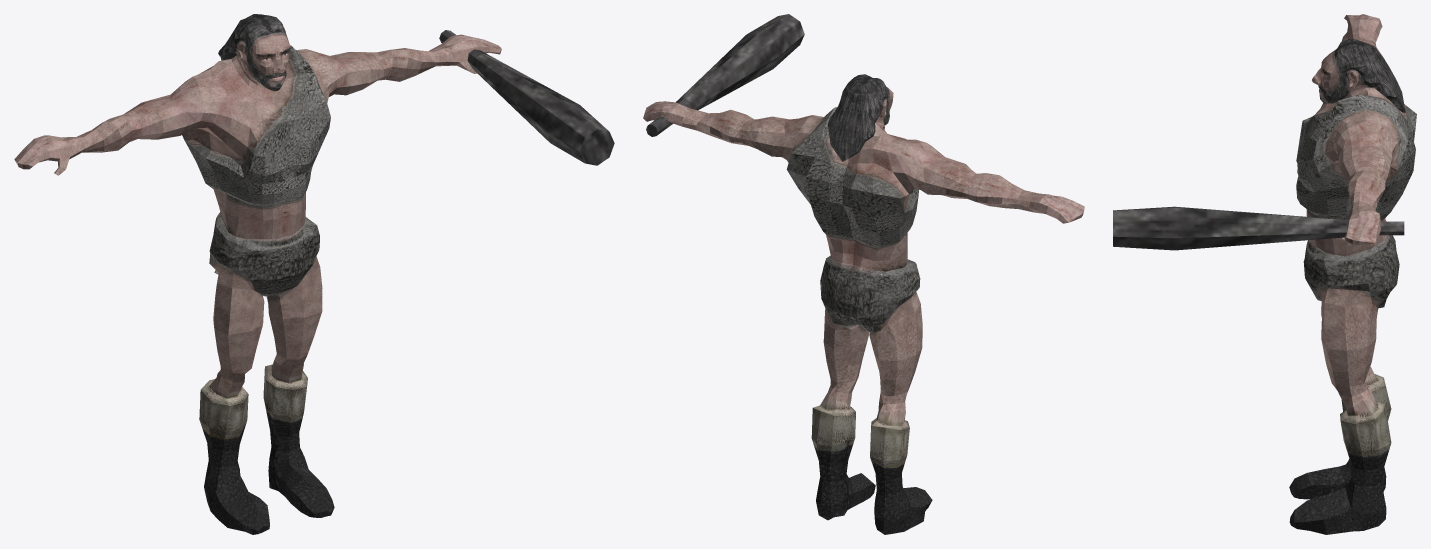
Rendered from Nean.obj.
3 views of the same model, side by side, from view 1: azimuth 30°, elevation 25°; view 2: azimuth 150°, elevation 25°; view 3: azimuth 270°, elevation 25° (orthographic). The views are drawn at different scales.
Parts seen in each view (by area): view 1: Neanderthal, Cylinder; view 2: Neanderthal, Cylinder; view 3: Neanderthal, Cylinder.
Boxes of the visible parts, <box> form: Neanderthal: <box>14,14,501,534</box>; Cylinder: <box>439,30,614,165</box>; Neanderthal: <box>643,74,1084,534</box>; Cylinder: <box>646,14,804,136</box>; Neanderthal: <box>1289,14,1416,534</box>; Cylinder: <box>1113,206,1404,250</box>.
Bounding box in the file's own units: 1.86 × 1.81 × 1.06.
Materials: 2 (2 with a texture image).
